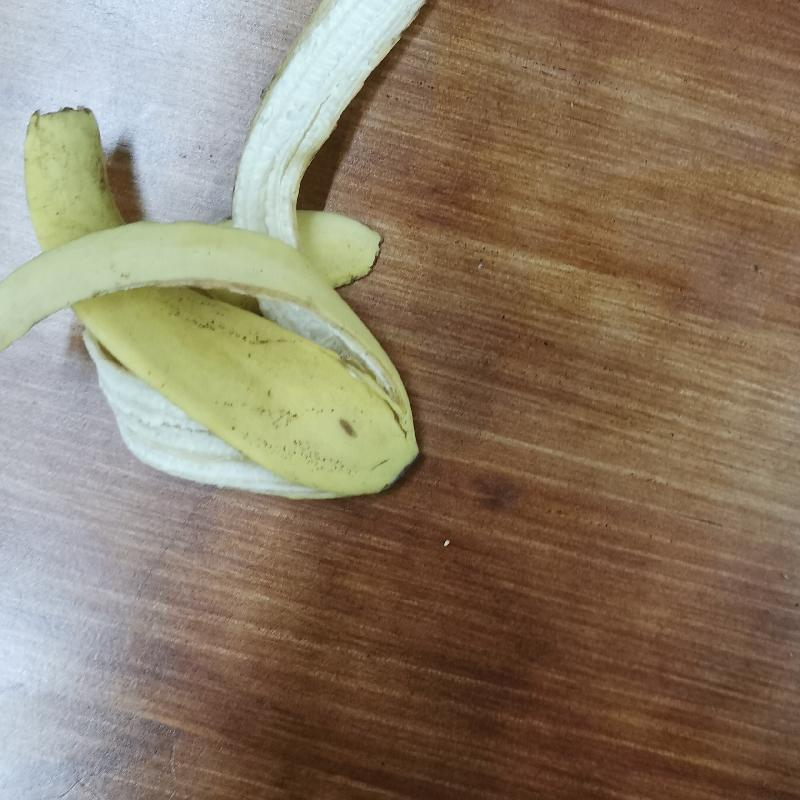bananas: (1, 3, 435, 501)
